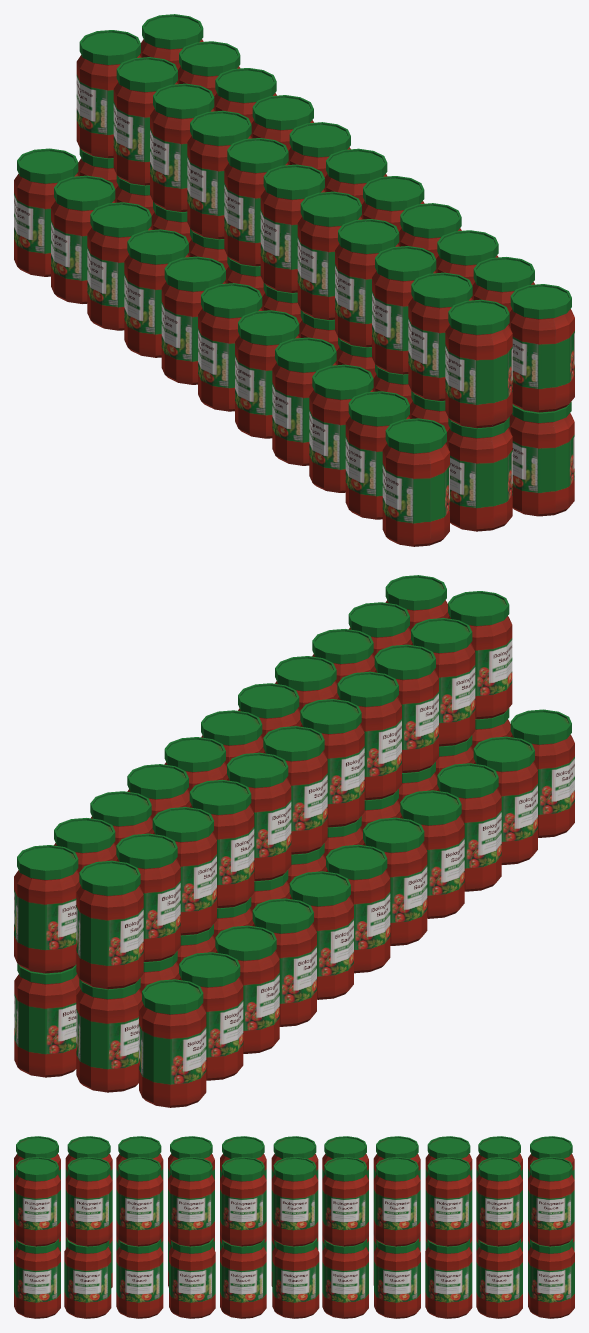
The model's file is saucepastapile.fbx.
The picture shows the model from 3 angles, top to bottom: view 1: azimuth 30°, elevation 25°; view 2: azimuth 150°, elevation 25°; view 3: azimuth 270°, elevation 25°; orthographic projection. The views are drawn at different scales.
Parts seen in each view (by area): view 1: MustardJar.040; view 2: MustardJar.040; view 3: MustardJar.040.
Boxes of the visible parts, bbox=[...] form: MustardJar.040: bbox=[14, 14, 574, 546]; MustardJar.040: bbox=[14, 575, 574, 1107]; MustardJar.040: bbox=[14, 1136, 574, 1318].
Size of the model in its own units: 80.34 by 86.58 by 305.
